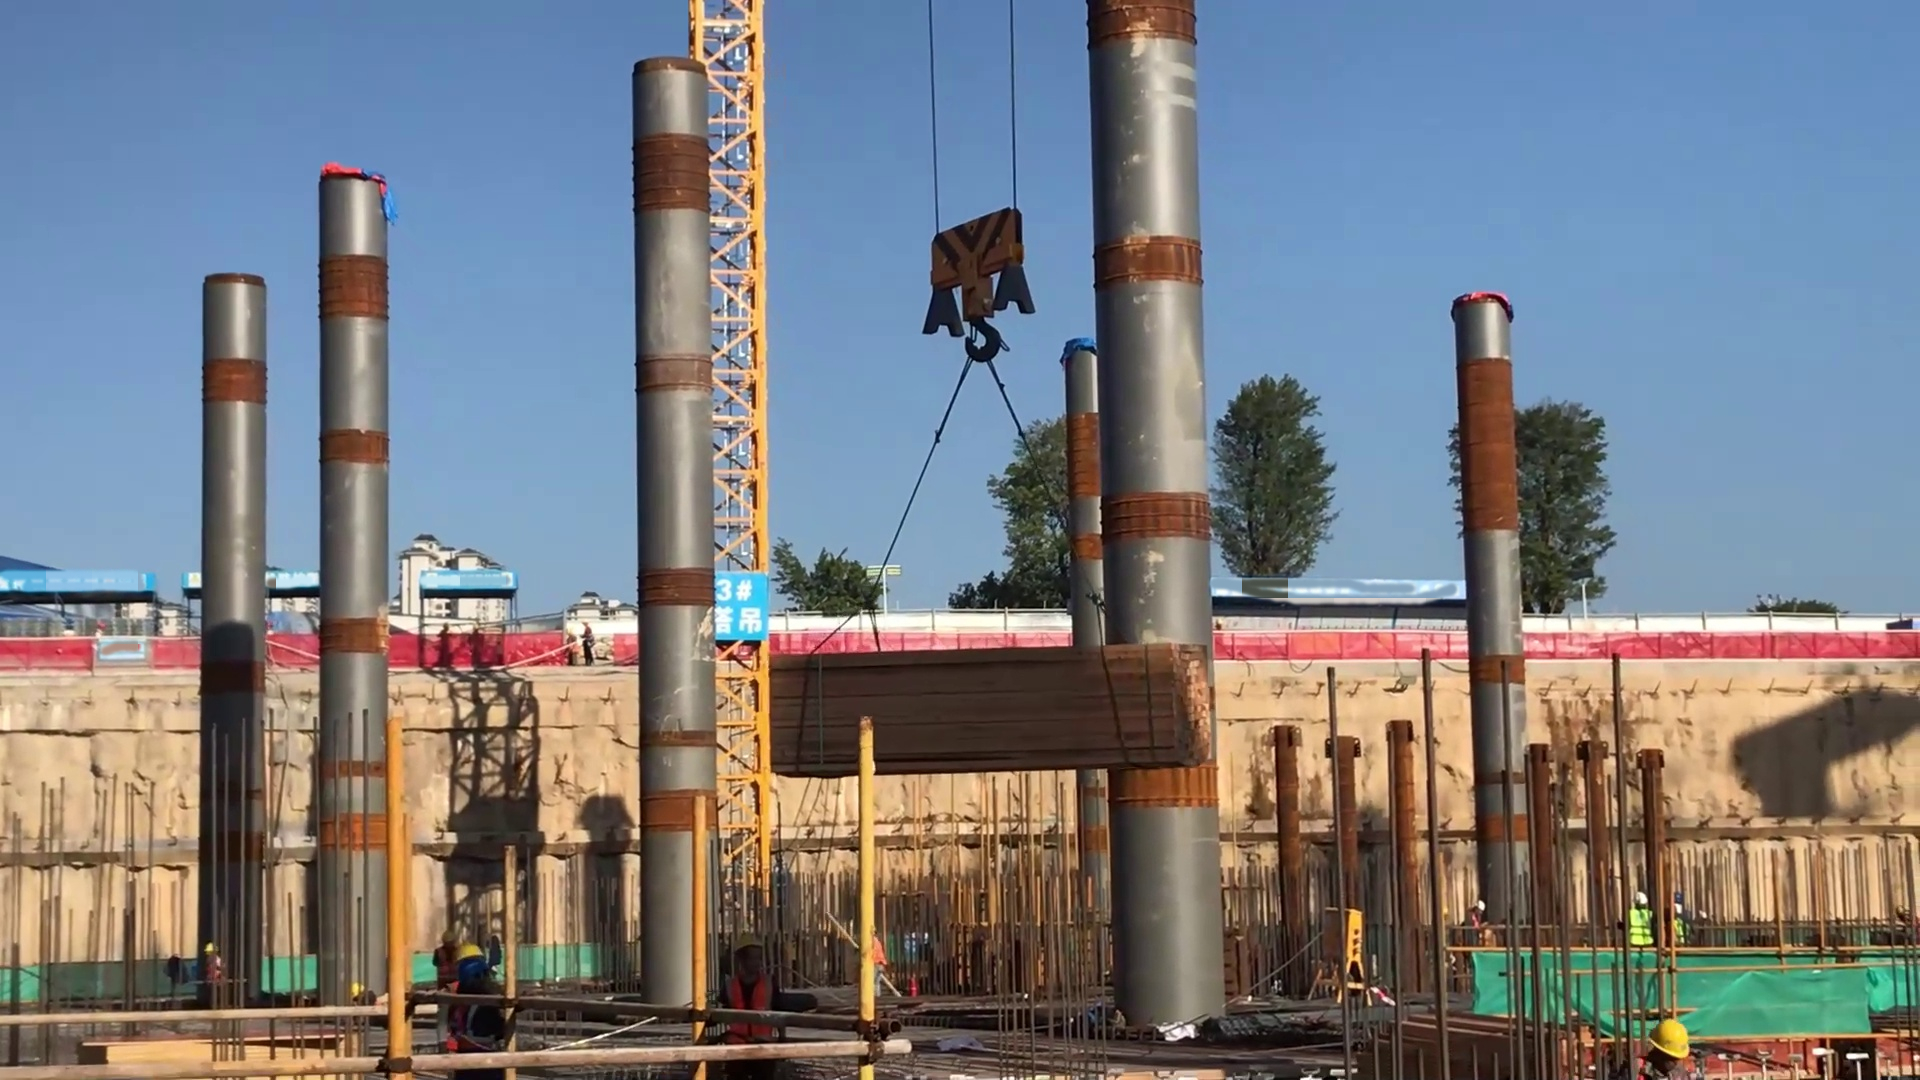ebox: (1293, 891, 1392, 1010)
helmet: (1642, 1004, 1697, 1050), (455, 938, 504, 966), (1473, 887, 1496, 912), (1631, 888, 1647, 908)
hook: (913, 200, 1042, 368)
person: (724, 941, 789, 1046)
vest: (442, 980, 525, 1066), (721, 969, 783, 1041), (1620, 903, 1670, 953)
wood: (761, 629, 1217, 774)
